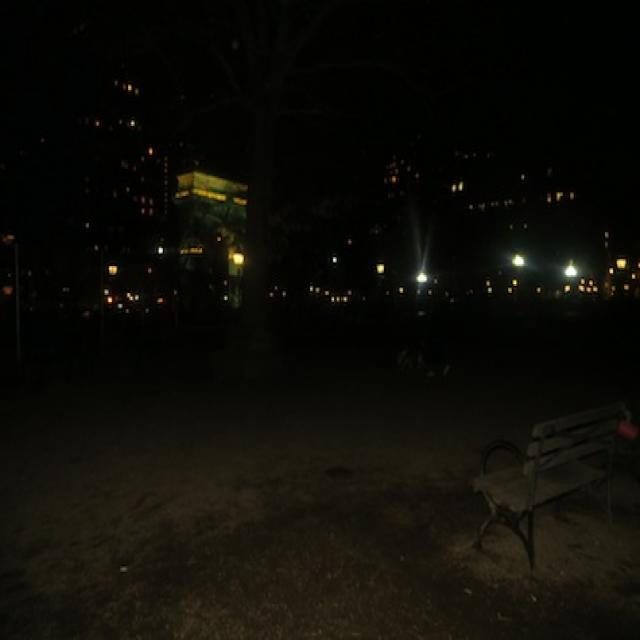chair: (469, 347, 640, 577)
